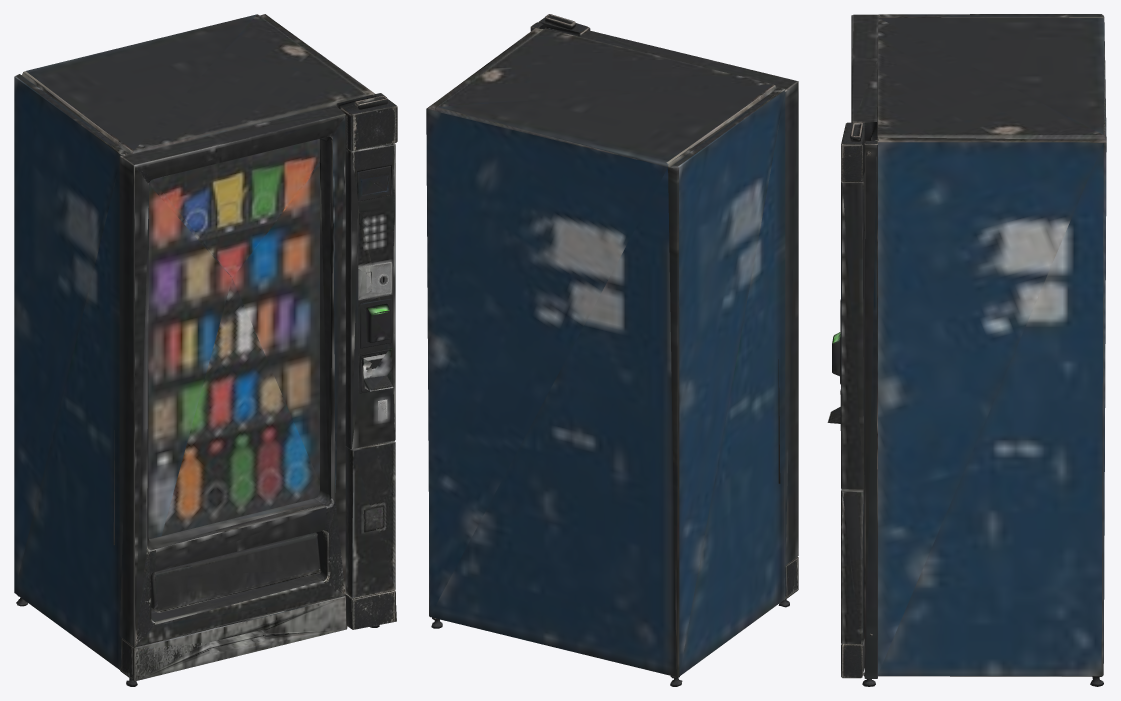
Rendered from vending-t25.glb.
3 renders of one model, left to right at view 1: azimuth 30°, elevation 25°; view 2: azimuth 150°, elevation 25°; view 3: azimuth 270°, elevation 25°, orthographic. The views are drawn at different scales.
Parts seen in each view (by area): view 1: vending-t25; view 2: vending-t25; view 3: vending-t25.
Part boxes in pixels (<box>): vending-t25: <box>14,14,397,686</box>; vending-t25: <box>426,14,798,686</box>; vending-t25: <box>827,14,1106,686</box>.
Bounding box in the file's own units: 0.95 × 1.85 × 0.85.
Materials: 1 (1 with a texture image).
